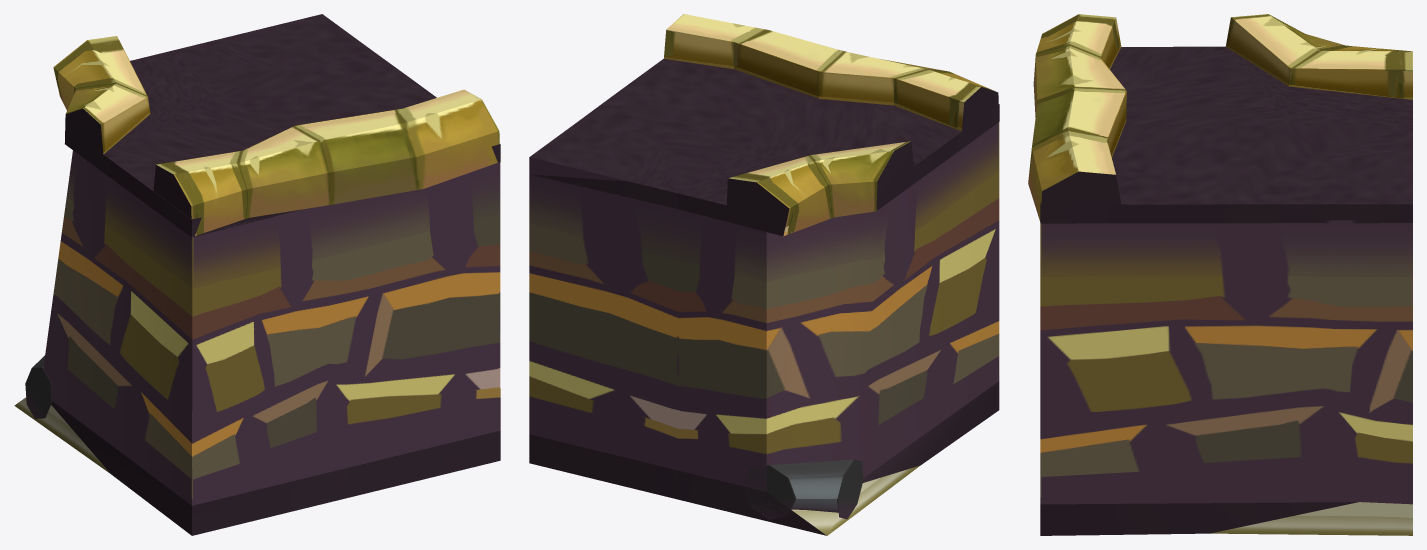
The model's file is Int_27_Cross_Quarter_R.fbx.
The picture shows the model from 3 angles, left to right: view 1: azimuth 30°, elevation 25°; view 2: azimuth 150°, elevation 25°; view 3: azimuth 270°, elevation 25°; orthographic projection. The views are drawn at different scales.
Parts seen in each view (by area): view 1: Int_27_Cross_Quarter_R; view 2: Int_27_Cross_Quarter_R; view 3: Int_27_Cross_Quarter_R.
Boxes of the visible parts, x1,y1,x2,y2 form: Int_27_Cross_Quarter_R: [14, 14, 500, 535]; Int_27_Cross_Quarter_R: [529, 14, 999, 535]; Int_27_Cross_Quarter_R: [1028, 14, 1412, 535].
Size of the model in its own units: 1 by 1.08 by 1.03.
1 material, 1 textured.
